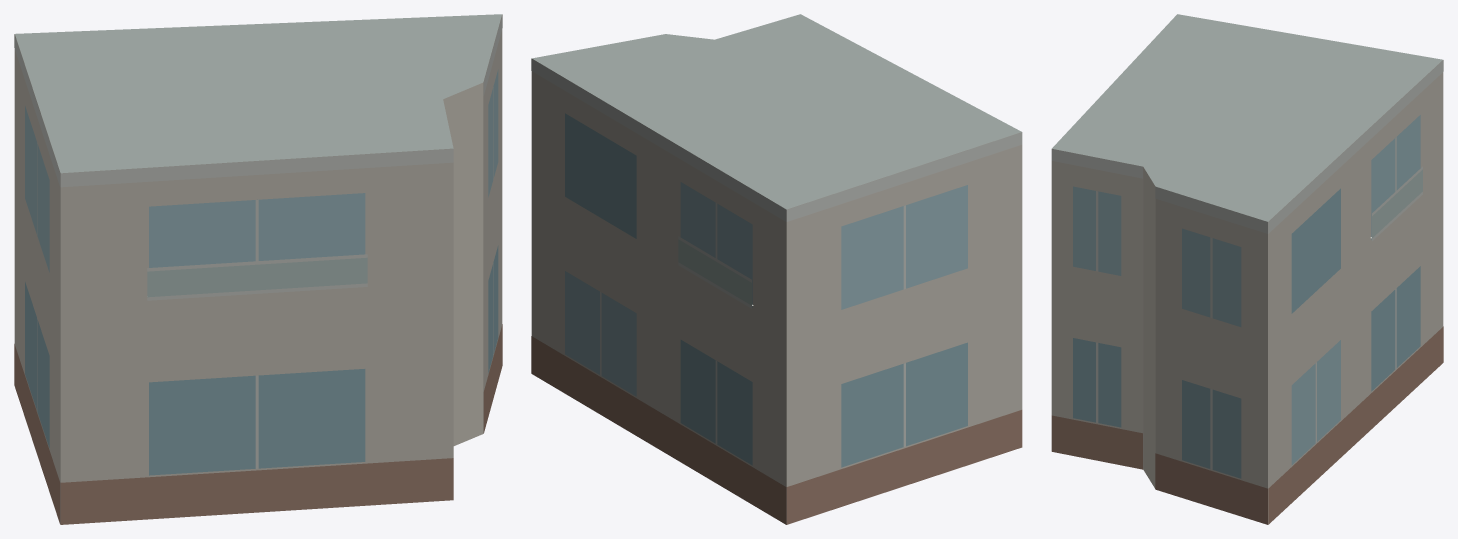
File: survey-upis-32980544.glb
The picture shows the model from 3 angles, left to right: view 1: azimuth 30°, elevation 25°; view 2: azimuth 150°, elevation 25°; view 3: azimuth 270°, elevation 25°; orthographic projection. The views are drawn at different scales.
Parts seen in each view (by area): view 1: survey-upis-32980544.tmp; view 2: survey-upis-32980544.tmp; view 3: survey-upis-32980544.tmp.
Boxes of the visible parts, x1,y1,x2,y2 form: survey-upis-32980544.tmp: (14, 14, 502, 524); survey-upis-32980544.tmp: (531, 14, 1022, 524); survey-upis-32980544.tmp: (1051, 14, 1443, 524).
Bounding box in the file's own units: 8.99 × 6.1 × 7.16.
